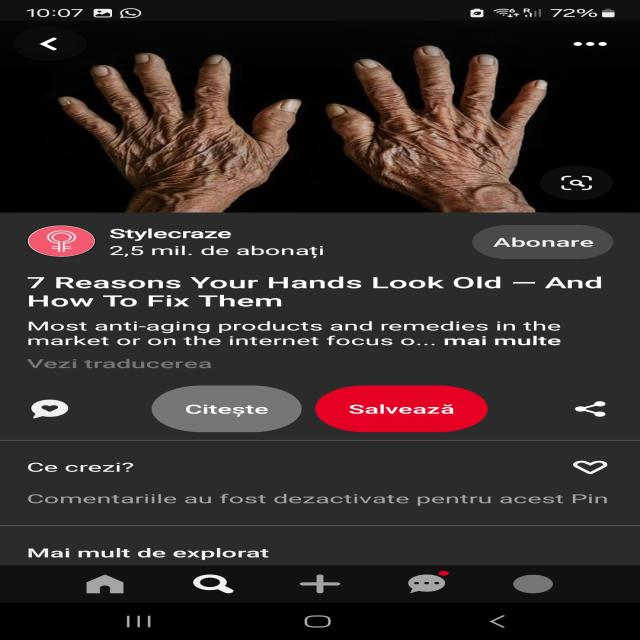hands: (323, 35, 625, 198), (39, 36, 312, 208)
